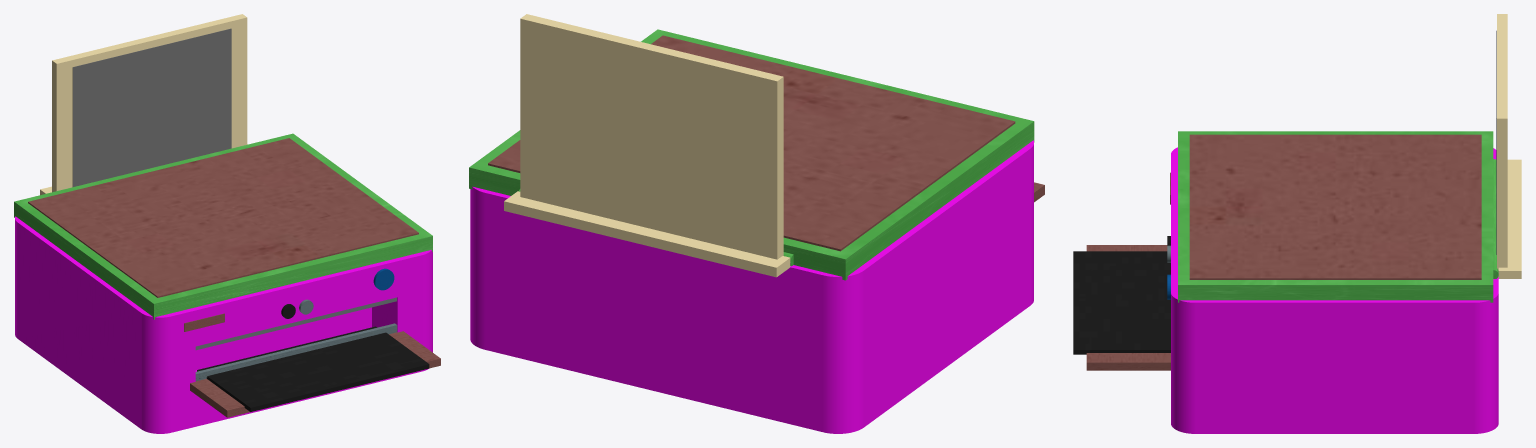
The model's file is Technology_Printer__0000.glb.
The picture shows the model from 3 angles, left to right: view 1: azimuth 30°, elevation 25°; view 2: azimuth 150°, elevation 25°; view 3: azimuth 270°, elevation 25°; orthographic projection. The views are drawn at different scales.
Parts seen in each view (by area): view 1: body::body_shell, scanner_lid::cover_top, body::rear_feed_paper, scanner_lid::lid_frame, extension_arm::extension_plate, body::rear_feed_upright, body::output_shelf, body::output_shadow, body::control_panel, extension_arm::extension_lip; view 2: body::body_shell, body::rear_feed_upright, scanner_lid::cover_top, scanner_lid::lid_frame, body::rear_feed_base; view 3: body::body_shell, scanner_lid::cover_top, scanner_lid::lid_frame, extension_arm::extension_plate, body::rear_feed_upright, body::output_shelf, body::rear_feed_base, scanner_lid::hinge_barrel.
Part boxes in pixels (<box>): body::body_shell: <box>15,216,432,433</box>; scanner_lid::cover_top: <box>28,138,418,297</box>; body::rear_feed_paper: <box>72,28,231,186</box>; scanner_lid::lid_frame: <box>14,133,432,319</box>; extension_arm::extension_plate: <box>207,332,429,411</box>; body::rear_feed_upright: <box>52,14,247,192</box>; body::output_shelf: <box>190,331,440,417</box>; body::output_shadow: <box>195,323,397,381</box>; body::control_panel: <box>195,297,396,350</box>; extension_arm::extension_lip: <box>197,326,376,379</box>; body::body_shell: <box>470,140,1033,433</box>; body::rear_feed_upright: <box>520,14,783,259</box>; scanner_lid::cover_top: <box>488,35,1015,251</box>; scanner_lid::lid_frame: <box>469,29,1034,280</box>; body::rear_feed_base: <box>504,191,790,277</box>; body::body_shell: <box>1171,147,1498,433</box>; scanner_lid::cover_top: <box>1189,134,1481,279</box>; scanner_lid::lid_frame: <box>1178,131,1493,302</box>; extension_arm::extension_plate: <box>1073,251,1170,354</box>; body::rear_feed_upright: <box>1497,14,1507,270</box>; body::output_shelf: <box>1086,245,1170,370</box>; body::rear_feed_base: <box>1498,159,1521,278</box>; scanner_lid::hinge_barrel: <box>1493,159,1498,278</box>.
Size of the model in its own units: 0.4229 by 0.3579 by 0.5049.
10 materials, 6 textured.
